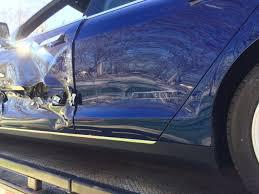doorouter-dent: (0, 37, 78, 125)
